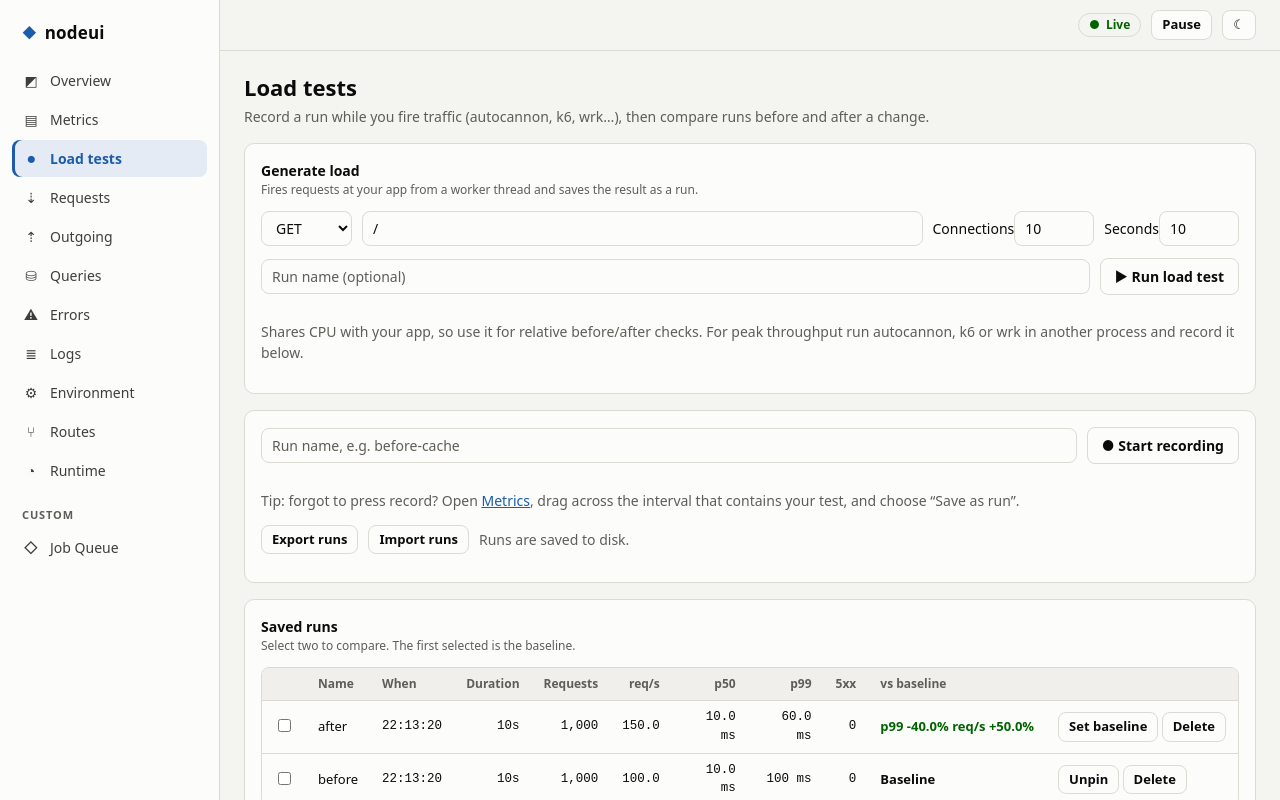
Test: baseline › compares a single selected run against the baseline automatically
The width and height of the screenshot is (1280, 800).
Click the checkbox named "Select after": (284, 726) [278, 719, 291, 732]
(page scrolled)
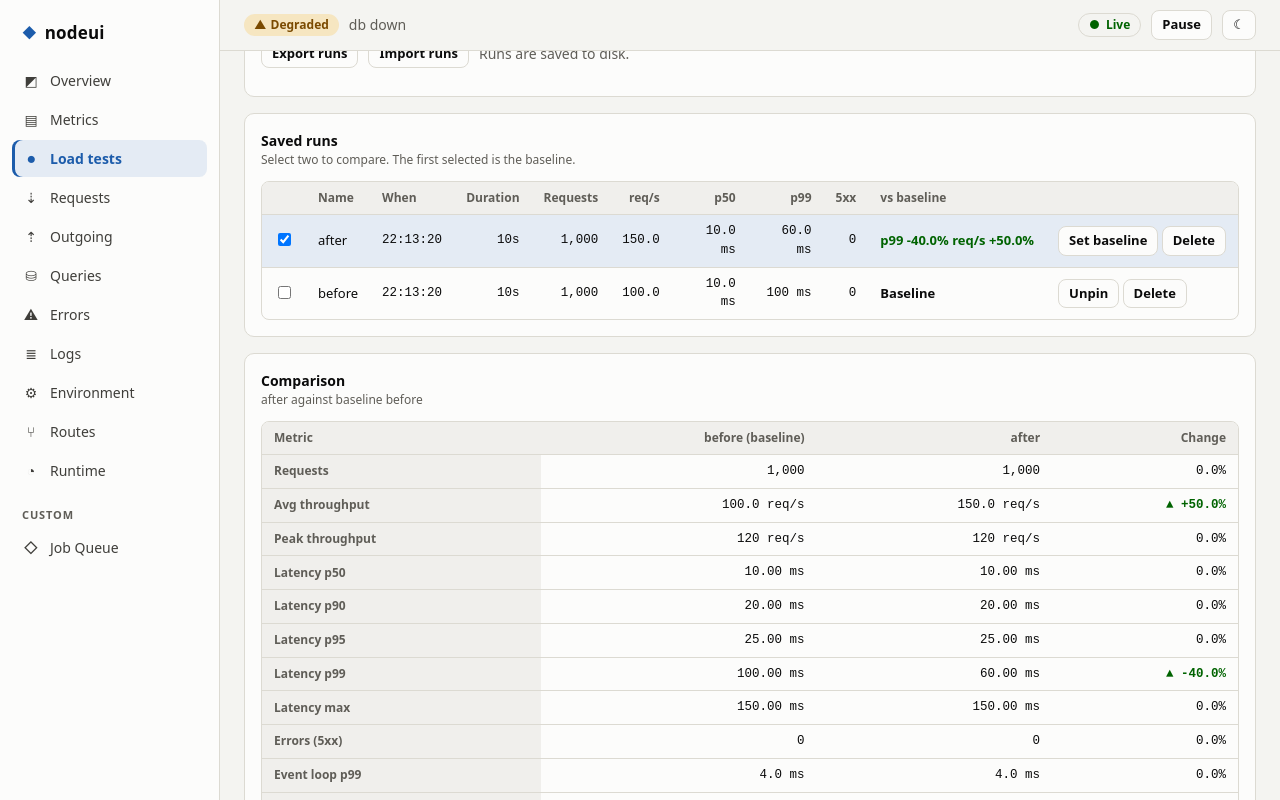
Result: the heading "Comparison" is shown at [261, 371, 345, 390]
Result: the text "after against baseline before" is shown at [261, 391, 423, 409]
